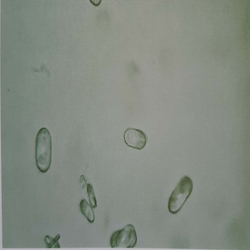Crystal: (166, 173, 197, 220), (74, 174, 102, 224), (31, 123, 57, 176), (119, 124, 152, 156), (105, 221, 140, 250), (42, 226, 65, 250)
